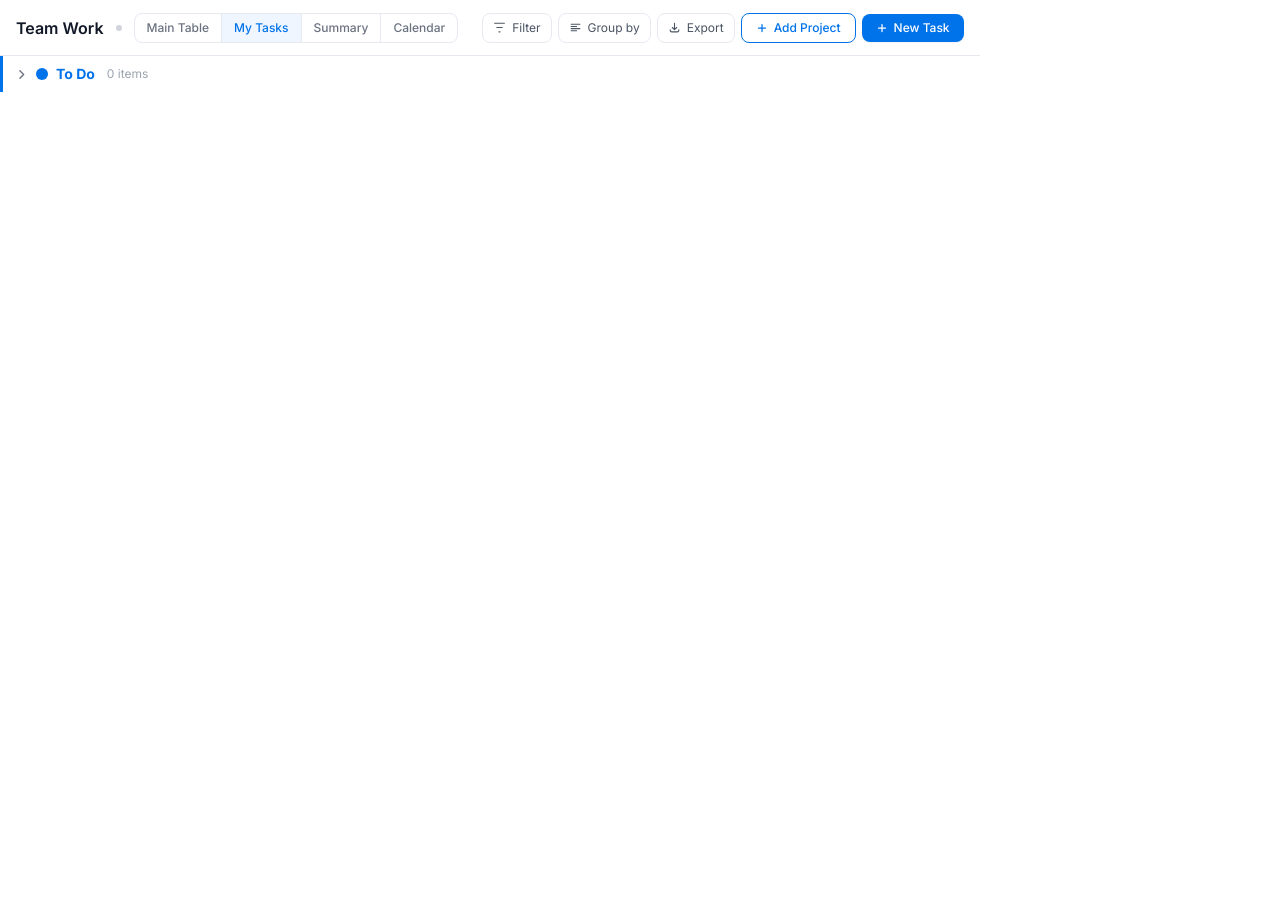
Test: project creation and existing project search from the header › filters names by a case-insensitive substring and selects a hidden project without creating a duplicate
Check: the text "Client Shipping Plan" is not shown
Click the button "Add Project" at (798, 28), box [741, 12, 856, 42]
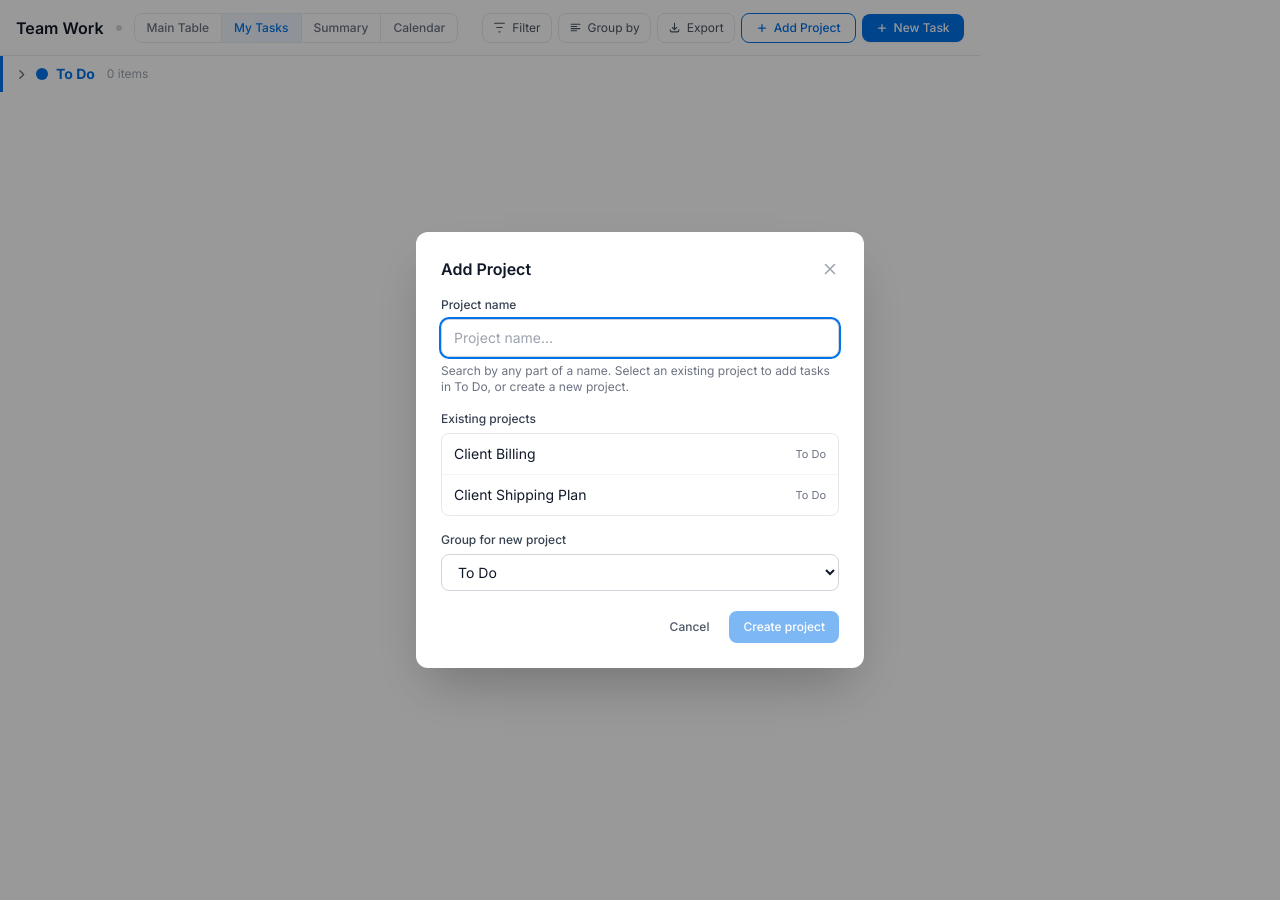
Type "sHiP" into the field labelled "Project name" at (640, 338), box [441, 319, 839, 357]
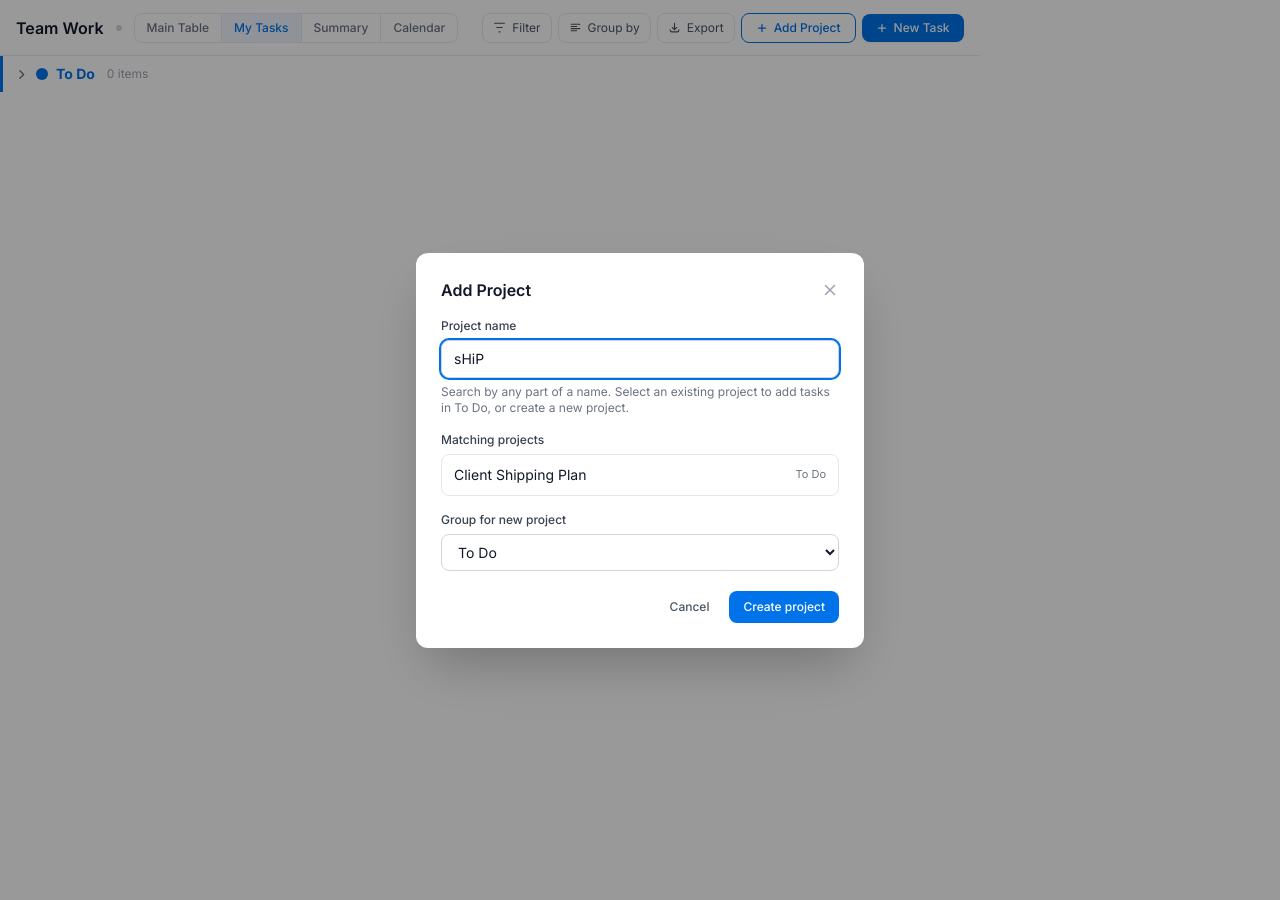
Check: the button with aria-label "Select project Client Shipping Plan in To Do" is shown
Check: the button "Client Billing" is gone
Click the button with aria-label "Select project Client Shipping Plan in To Do" at (520, 474), box [442, 454, 838, 494]
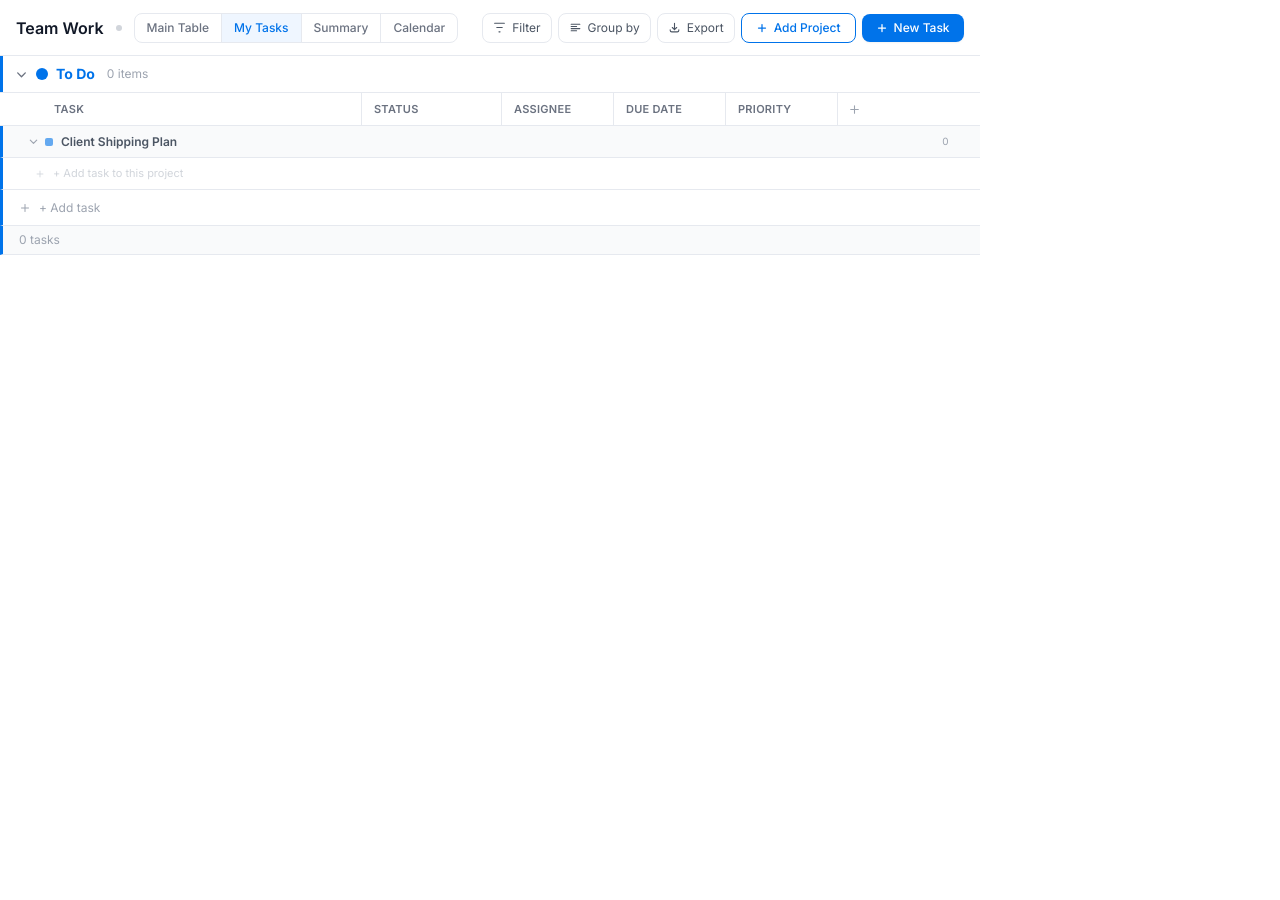
Check: the text "Client Shipping Plan" is shown, box [61, 134, 177, 148]
Check: the text "+ Add task to this project" is shown, box [53, 165, 183, 182]
